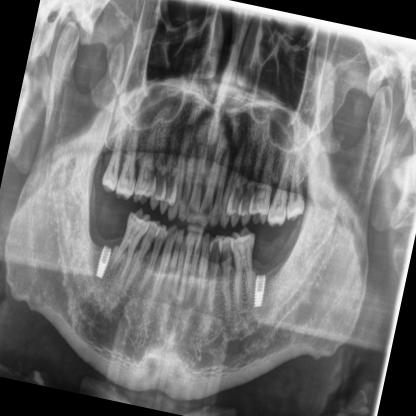Bicon: (246, 267, 273, 312), (91, 240, 116, 286)
